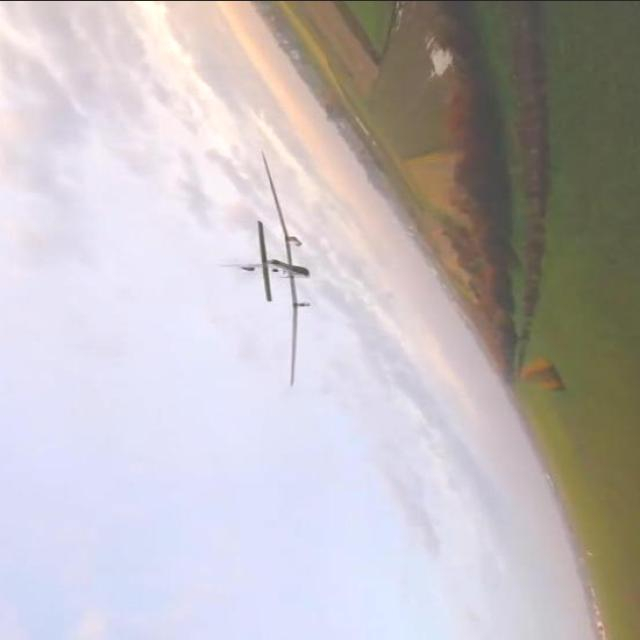plane: (218, 147, 312, 386)
